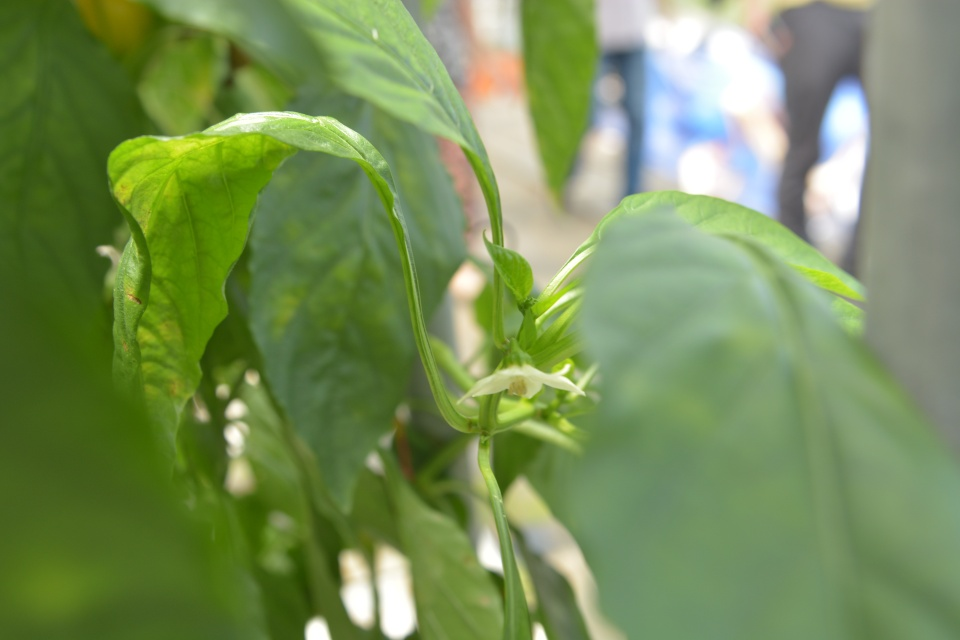flower: (453, 360, 589, 411)
